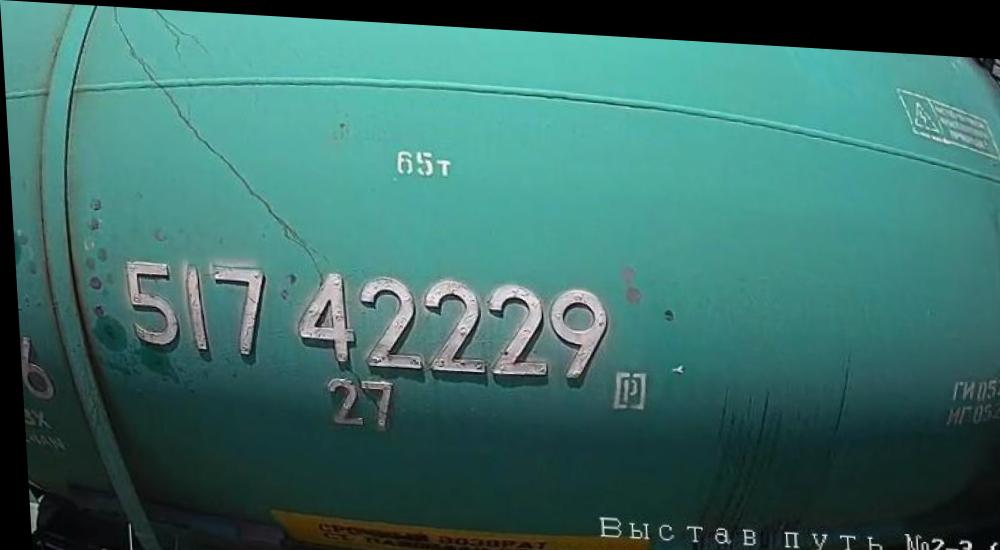Wagon-number: (118, 249, 613, 384)
